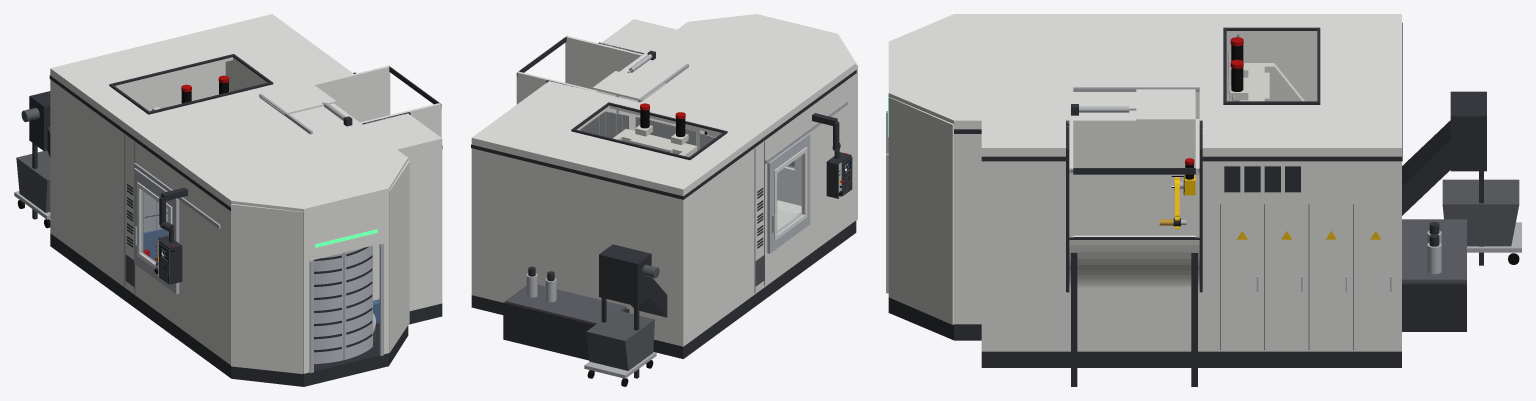
The model's file is hmc_x1200_4ax_white_left.glb.
3 renders of one model, left to right at view 1: azimuth 30°, elevation 25°; view 2: azimuth 150°, elevation 25°; view 3: azimuth 270°, elevation 25°, orthographic. The views are drawn at different scales.
Parts seen in each view (by area): view 1: enclosure__hmc_white, apc_housing__hmc_white, enclosure__anthracite, tc_box__hmc_white, apc_housing__anthracite, apc_door_left__door_grey, apc_door_right__door_grey, chip_cart__steel_dark, operator_door__door_grey, cnc_panel__anthracite, tc_door__hmc_white, chip_coolant__anthracite (+9 smaller); view 2: enclosure__hmc_white, chip_coolant__anthracite, apc_housing__hmc_white, enclosure__anthracite, tc_box__hmc_white, chip_cart__steel_dark, chip_coolant__anthracite_lt, operator_door__door_grey, operator_door__glass_clear, tc_door__hmc_white, column__struct_grey, cnc_panel__anthracite (+9 smaller); view 3: enclosure__hmc_white, apc_housing__hmc_white, electrical_cabinet__hmc_white, enclosure__anthracite, chip_coolant__anthracite, tc_door__hmc_white, tc_box__hmc_white, chip_cart__steel_dark, chip_coolant__anthracite_lt, tc_box__anthracite, column__struct_grey, apc_housing__anthracite (+3 smaller).
Part boxes in pixels (<box>): enclosure__hmc_white: <box>50,14,442,357</box>; apc_housing__hmc_white: <box>220,149,409,373</box>; enclosure__anthracite: <box>49,54,442,370</box>; tc_box__hmc_white: <box>313,65,441,137</box>; apc_housing__anthracite: <box>220,200,408,386</box>; apc_door_left__door_grey: <box>343,245,372,359</box>; apc_door_right__door_grey: <box>314,253,343,363</box>; chip_cart__steel_dark: <box>16,150,50,212</box>; operator_door__door_grey: <box>134,168,179,294</box>; cnc_panel__anthracite: <box>156,187,187,284</box>; tc_door__hmc_white: <box>260,83,336,115</box>; chip_coolant__anthracite: <box>29,91,50,219</box>; enclosure__hmc_white: <box>471,19,845,346</box>; chip_coolant__anthracite: <box>503,244,667,378</box>; apc_housing__hmc_white: <box>677,14,857,227</box>; enclosure__anthracite: <box>471,42,845,358</box>; tc_box__hmc_white: <box>516,36,642,104</box>; chip_cart__steel_dark: <box>586,310,654,370</box>; chip_coolant__anthracite_lt: <box>506,284,626,324</box>; operator_door__door_grey: <box>767,133,810,253</box>; operator_door__glass_clear: <box>778,155,802,231</box>; tc_door__hmc_white: <box>592,71,665,112</box>; column__struct_grey: <box>613,125,697,156</box>; cnc_panel__anthracite: <box>812,113,851,198</box>; enclosure__hmc_white: <box>981,14,1401,351</box>; apc_housing__hmc_white: <box>888,14,981,324</box>; electrical_cabinet__hmc_white: <box>1220,203,1397,351</box>; enclosure__anthracite: <box>981,22,1402,367</box>; chip_coolant__anthracite: <box>1402,91,1486,331</box>; tc_door__hmc_white: <box>1136,89,1195,235</box>; tc_box__hmc_white: <box>1069,120,1199,287</box>; chip_cart__steel_dark: <box>1442,179,1519,246</box>; chip_coolant__anthracite_lt: <box>1402,219,1466,282</box>; tc_box__anthracite: <box>1069,168,1199,386</box>; column__struct_grey: <box>1230,63,1304,101</box>; apc_housing__anthracite: <box>888,129,981,340</box>.
Size of the model in its own units: 5.08 by 3.22 by 7.86.
Materials: 21 (2 with a texture image).
